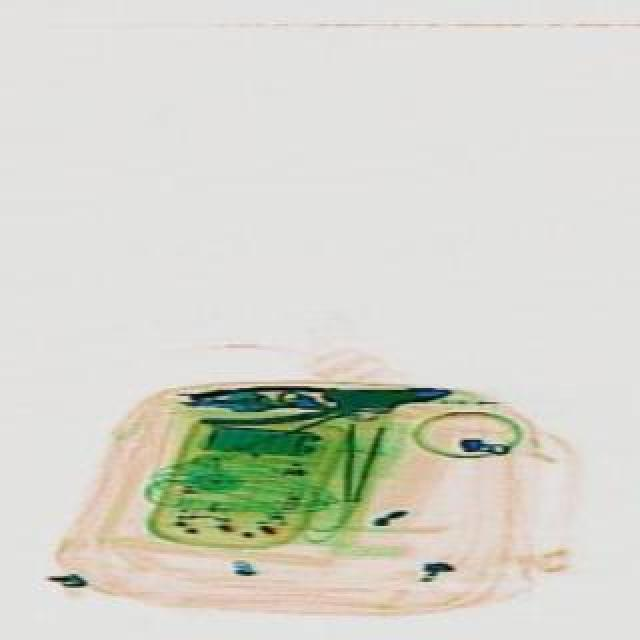wrench: (180, 372, 448, 428)
